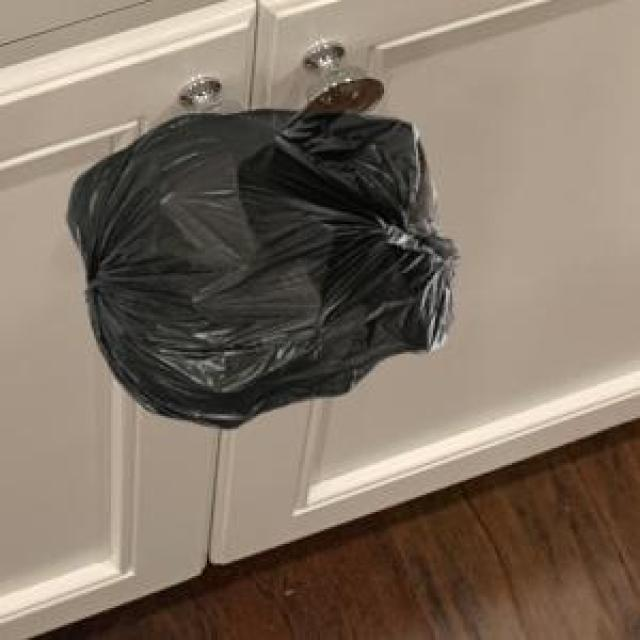waste: (68, 44, 458, 427)
